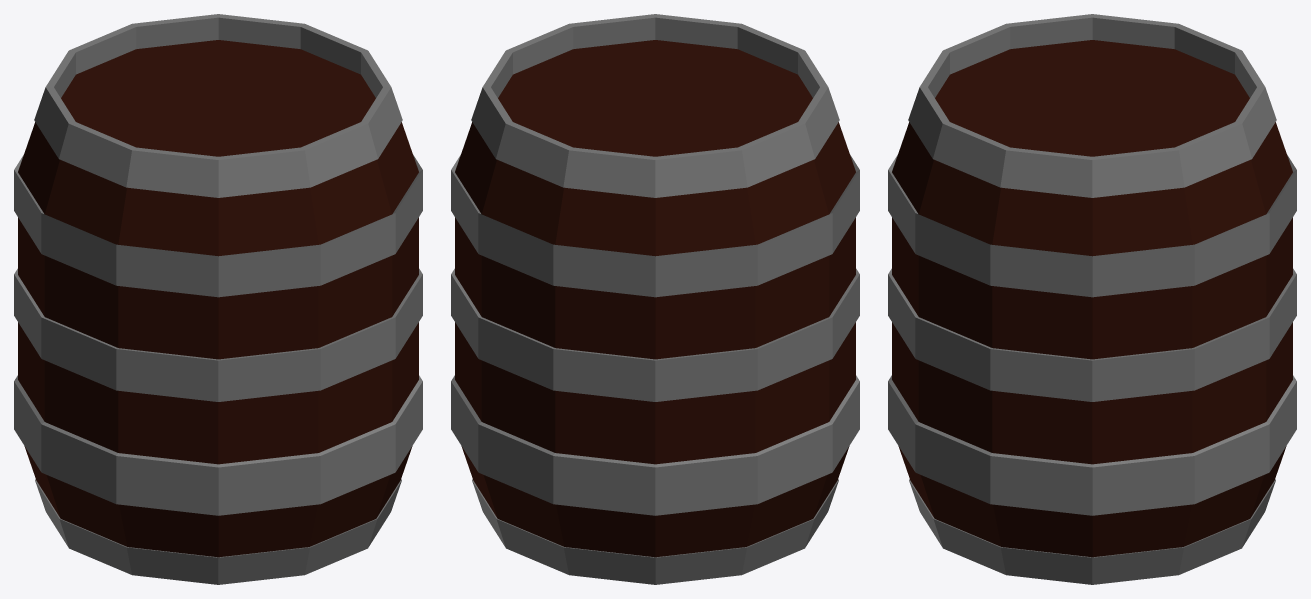
File: Barrel.fbx
The picture shows the model from 3 angles, left to right: view 1: azimuth 30°, elevation 25°; view 2: azimuth 150°, elevation 25°; view 3: azimuth 270°, elevation 25°; orthographic projection.
Parts seen in each view (by area): view 1: Cylinder; view 2: Cylinder; view 3: Cylinder.
Boxes of the visible parts, x1,y1,x2,y2 form: Cylinder: [14, 14, 422, 584]; Cylinder: [451, 14, 859, 584]; Cylinder: [888, 14, 1296, 584].
Bounding box in the file's own units: 0.8728 × 1 × 0.8728.
